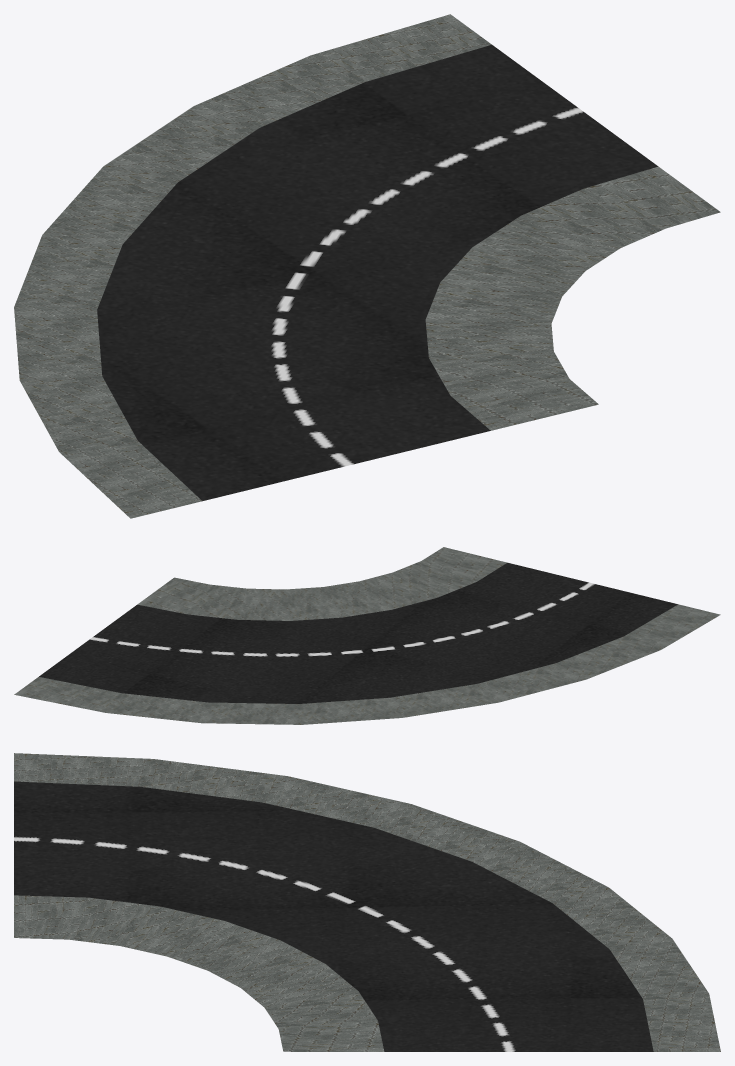
3 views of the same model, one above another, from view 1: azimuth 30°, elevation 25°; view 2: azimuth 150°, elevation 25°; view 3: azimuth 270°, elevation 25° (orthographic). The views are drawn at different scales.
Visible parts, largest first — view 1: big_cross_dashed; view 2: big_cross_dashed; view 3: big_cross_dashed.
Part boxes in pixels (x1,y1,x2,y2): big_cross_dashed: [14, 14, 720, 518]; big_cross_dashed: [14, 547, 720, 724]; big_cross_dashed: [14, 753, 720, 1051].
Bounding box in the file's own units: 2100 × 0.00101 × 2100.
Materials: 1 (1 with a texture image).
